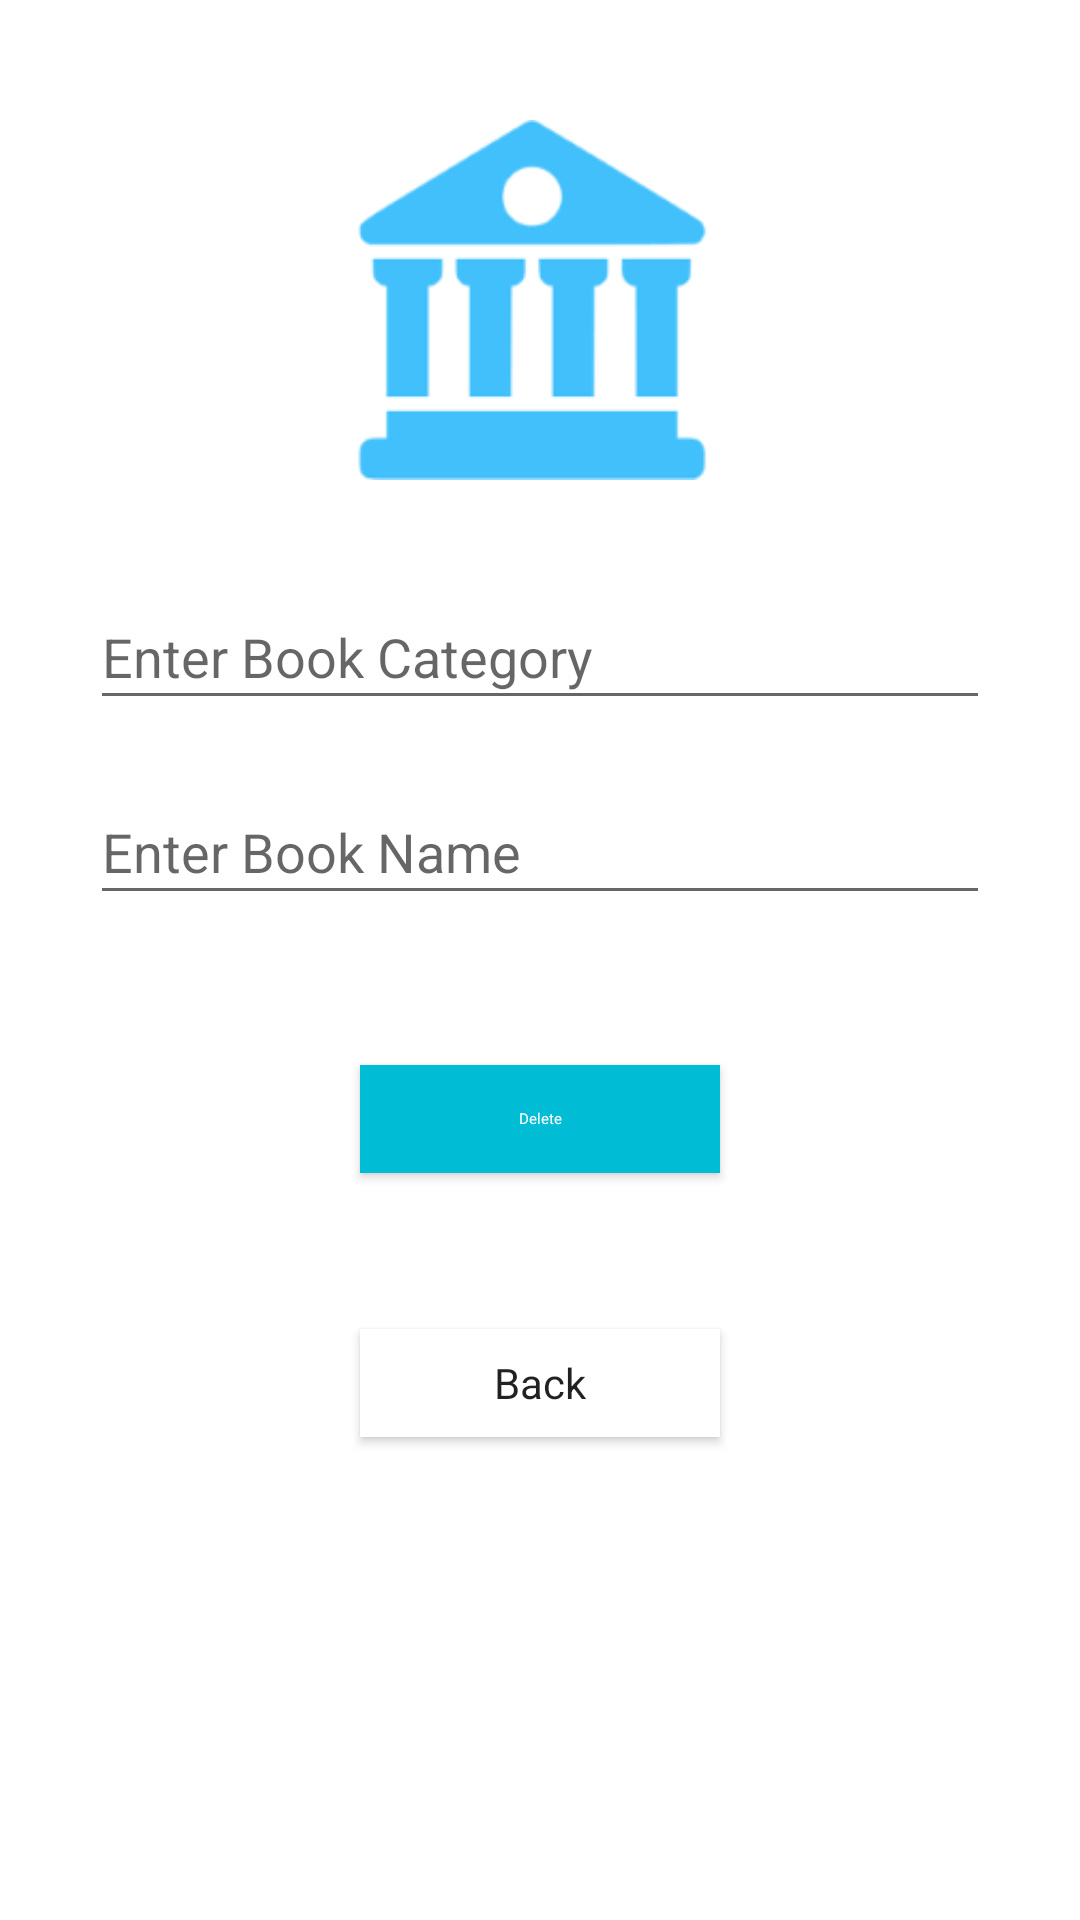

Locate icon controls on the screen. Image size 1080*1920, boxes as (x1, y1, x2, y2).
appicon: (358, 120, 706, 480)
